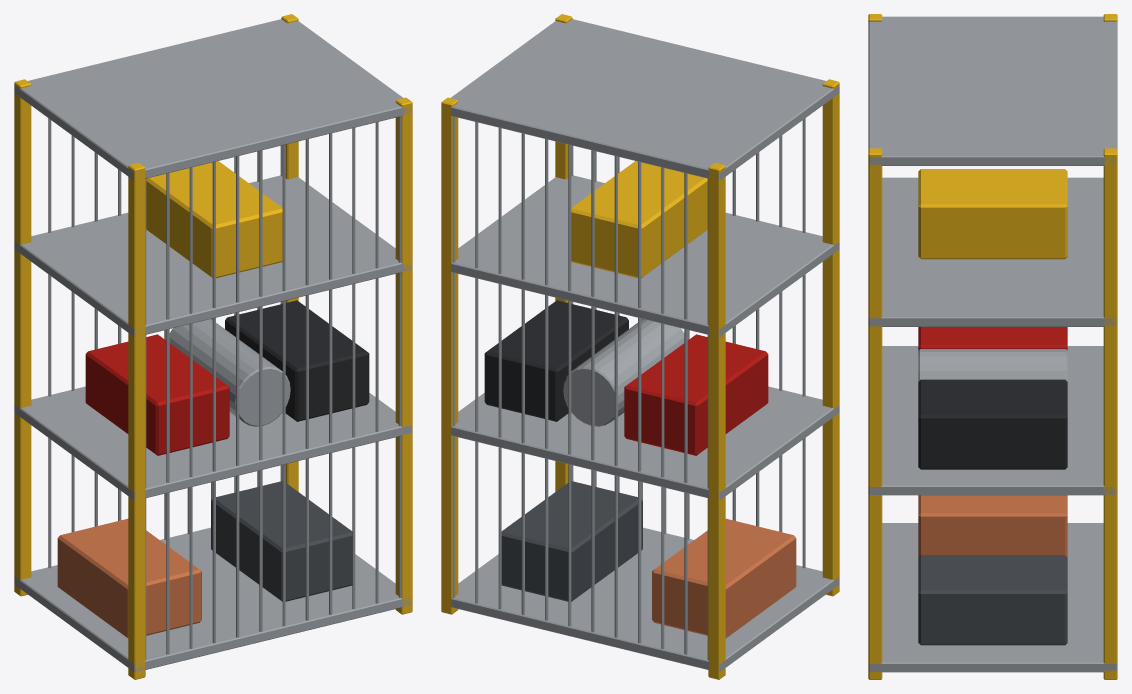
The model's file is spares_cage.glb.
3 renders of one model, left to right at view 1: azimuth 30°, elevation 25°; view 2: azimuth 150°, elevation 25°; view 3: azimuth 270°, elevation 25°, orthographic. The views are drawn at different scales.
Parts seen in each view (by area): view 1: spares_cage; view 2: spares_cage; view 3: spares_cage.
Boxes of the visible parts, x1=… form: spares_cage: x1=14, y1=14, x2=412, y2=679; spares_cage: x1=441, y1=14, x2=839, y2=679; spares_cage: x1=868, y1=14, x2=1117, y2=679.
Bounding box in the file's own units: 1.2 × 2.1 × 0.9.
